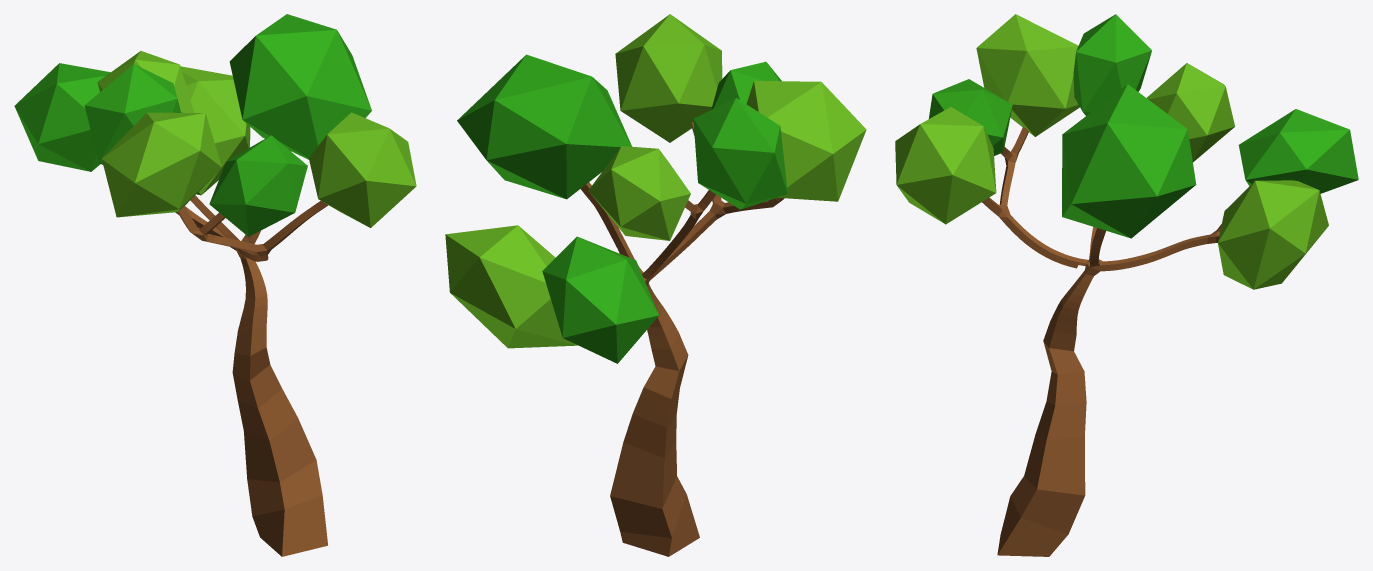
The model's file is Tree 2.3.fbx.
3 renders of one model, left to right at view 1: azimuth 30°, elevation 25°; view 2: azimuth 150°, elevation 25°; view 3: azimuth 270°, elevation 25°, orthographic. The views are drawn at different scales.
Parts seen in each view (by area): view 1: Cube; view 2: Cube; view 3: Cube.
Part boxes in pixels (box(x1,y1,x2,y2)): Cube: box(14, 14, 416, 556); Cube: box(445, 14, 866, 556); Cube: box(895, 14, 1358, 556).
Size of the model in its own units: 196 by 296 by 261.
